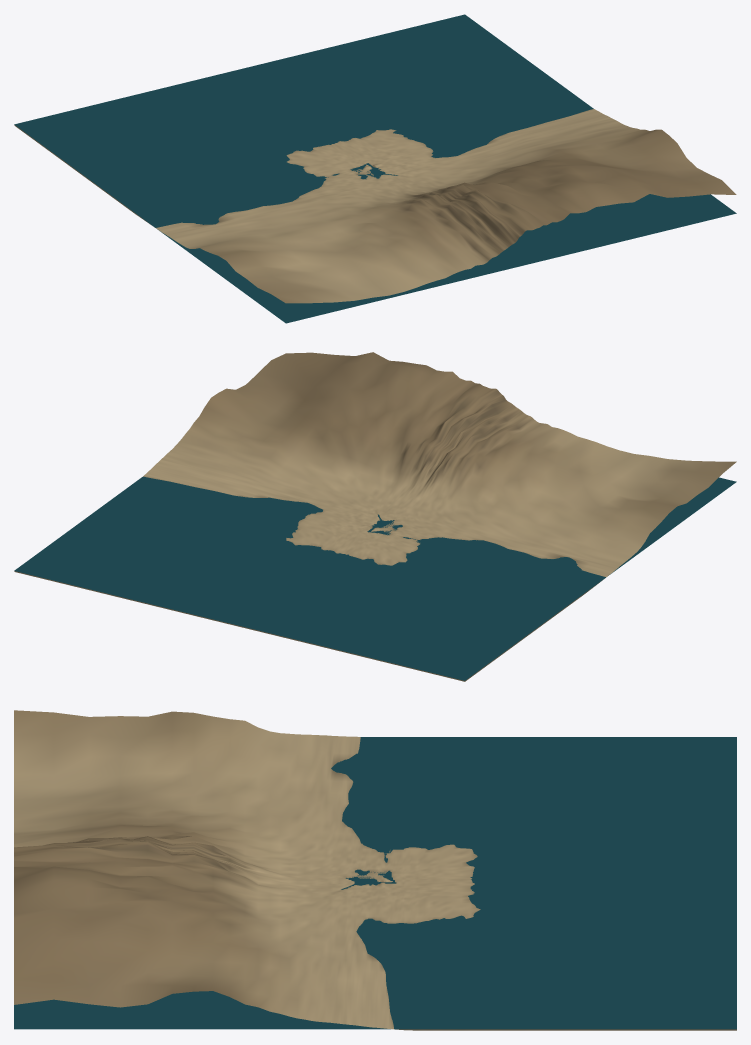
3 views of the same model, one above another, from view 1: azimuth 30°, elevation 25°; view 2: azimuth 150°, elevation 25°; view 3: azimuth 270°, elevation 25° (orthographic). The views are drawn at different scales.
Parts seen in each view (by area): view 1: terrain-ch02; view 2: terrain-ch02; view 3: terrain-ch02.
Part boxes in pixels (x1=…): terrain-ch02: x1=14, y1=14, x2=736, y2=323; terrain-ch02: x1=14, y1=352, x2=736, y2=681; terrain-ch02: x1=14, y1=710, x2=736, y2=1030.
Bounding box in the file's own units: 2825 × 300 × 2951.
